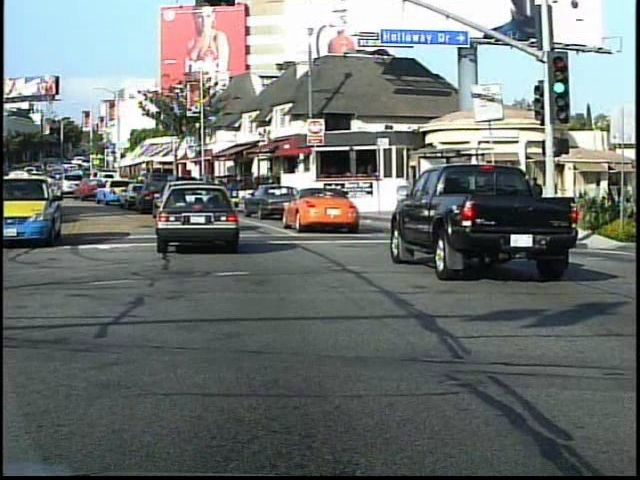person: (599, 177, 622, 258)
